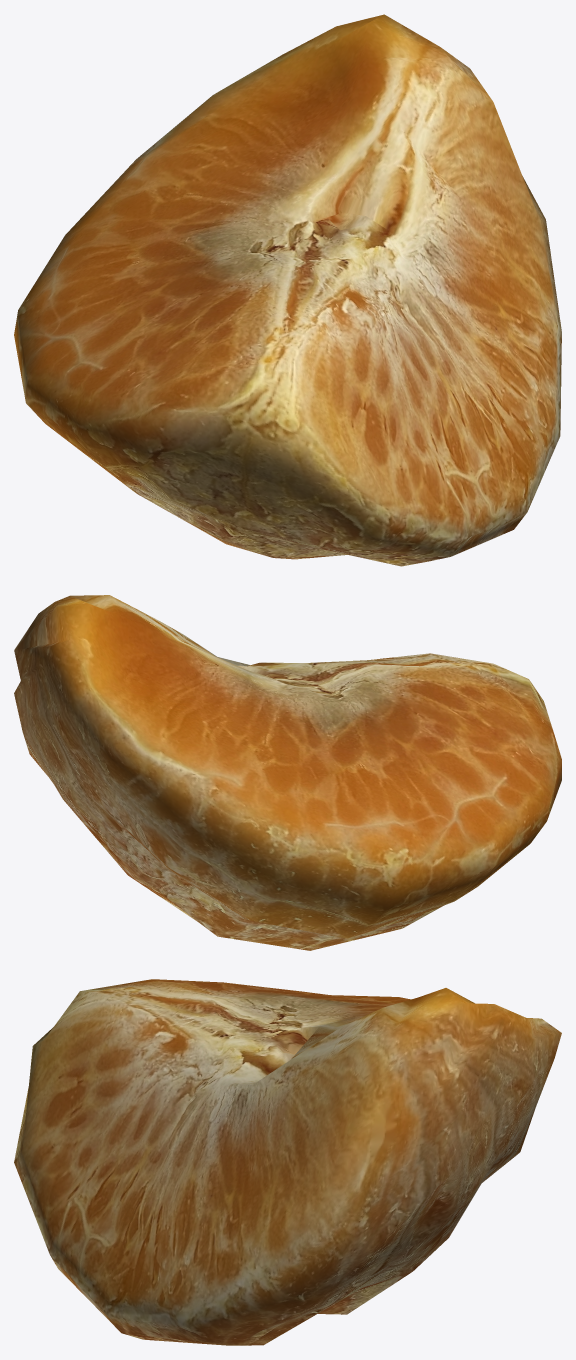
The model's file is A108_Orange_Segments_low.fbx.
3 renders of one model, top to bottom at view 1: azimuth 30°, elevation 25°; view 2: azimuth 150°, elevation 25°; view 3: azimuth 270°, elevation 25°, orthographic. The views are drawn at different scales.
Visible parts, largest first — view 1: A108_Orange_Segments_low; view 2: A108_Orange_Segments_low; view 3: A108_Orange_Segments_low.
Boxes of the visible parts, x1=… form: A108_Orange_Segments_low: x1=14, y1=14, x2=561, y2=566; A108_Orange_Segments_low: x1=14, y1=595, x2=561, y2=950; A108_Orange_Segments_low: x1=14, y1=979, x2=561, y2=1345.
Size of the model in its own units: 7.81 by 7.41 by 5.78.
1 material, 1 textured.
